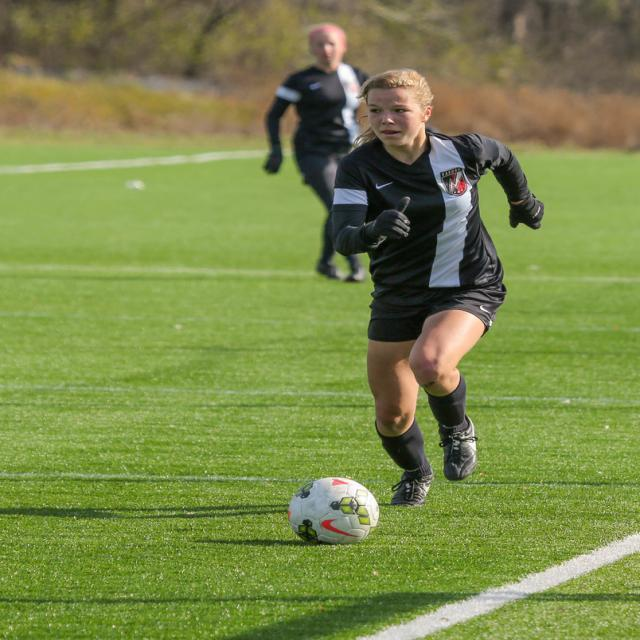football: (289, 458, 402, 572)
